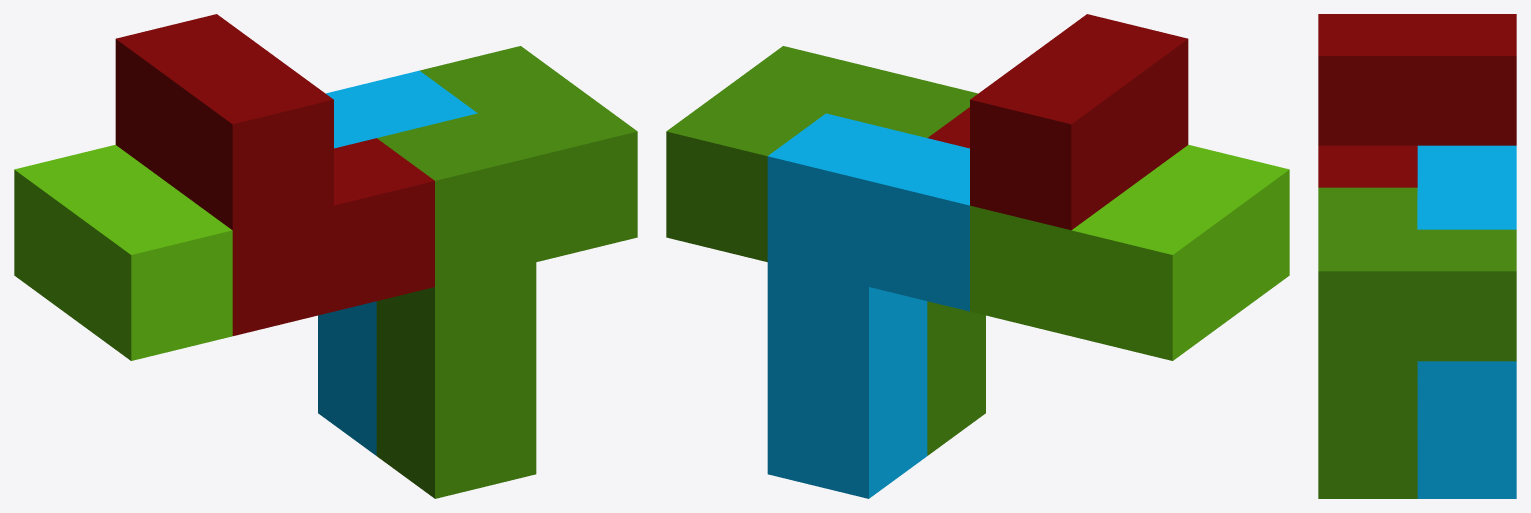
The picture shows the model from 3 angles, left to right: view 1: azimuth 30°, elevation 25°; view 2: azimuth 150°, elevation 25°; view 3: azimuth 270°, elevation 25°; orthographic projection. The views are drawn at different scales.
Visible parts, largest first — view 1: mergedBlocks(Clone); view 2: mergedBlocks(Clone); view 3: mergedBlocks(Clone).
Part boxes in pixels (left/top/right/bottom): mergedBlocks(Clone): left=14, top=14, right=637, bottom=498; mergedBlocks(Clone): left=666, top=14, right=1289, bottom=498; mergedBlocks(Clone): left=1318, top=14, right=1516, bottom=498.
Bounding box in the file's own units: 5 × 4 × 2.
Materials: 4 (4 with a texture image).
